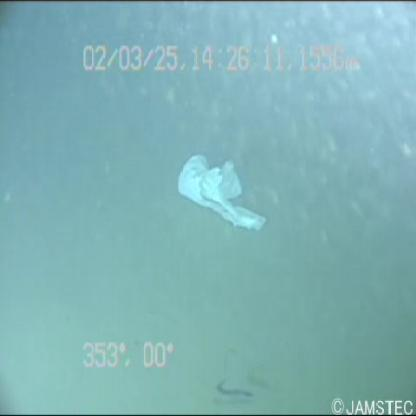Bio: (208, 339, 270, 410)
Rác: (170, 141, 273, 255)
